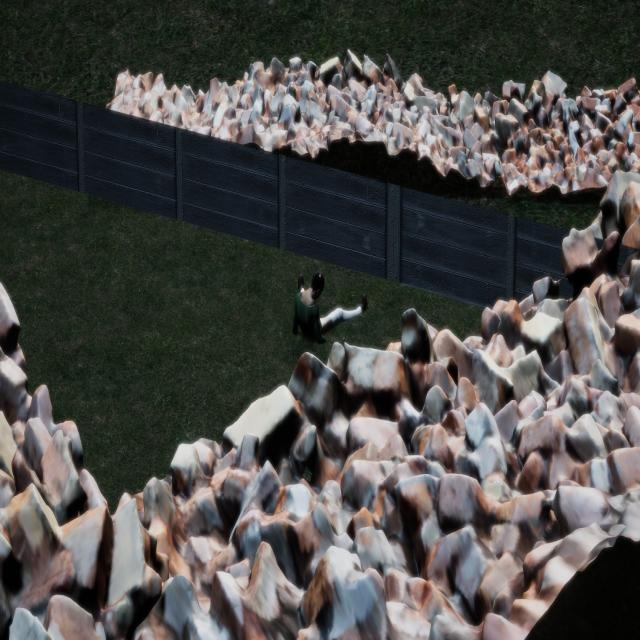Human: (286, 258, 371, 360)
